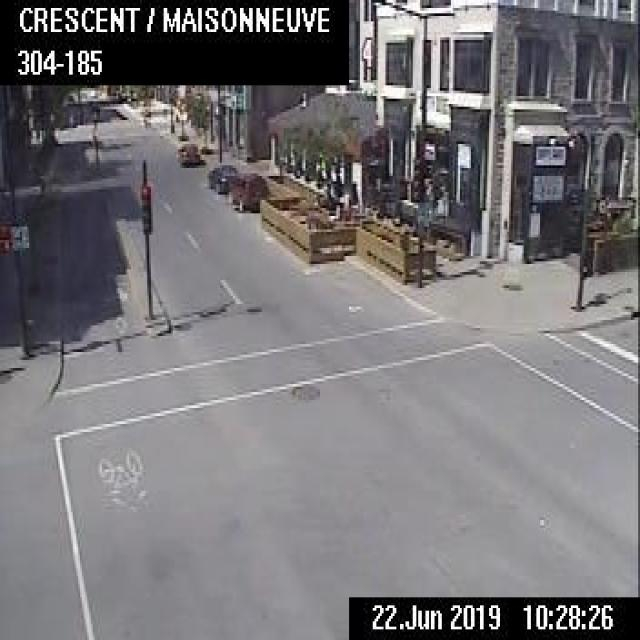vehicle: (228, 170, 268, 211), (206, 162, 236, 192), (176, 141, 200, 166)
